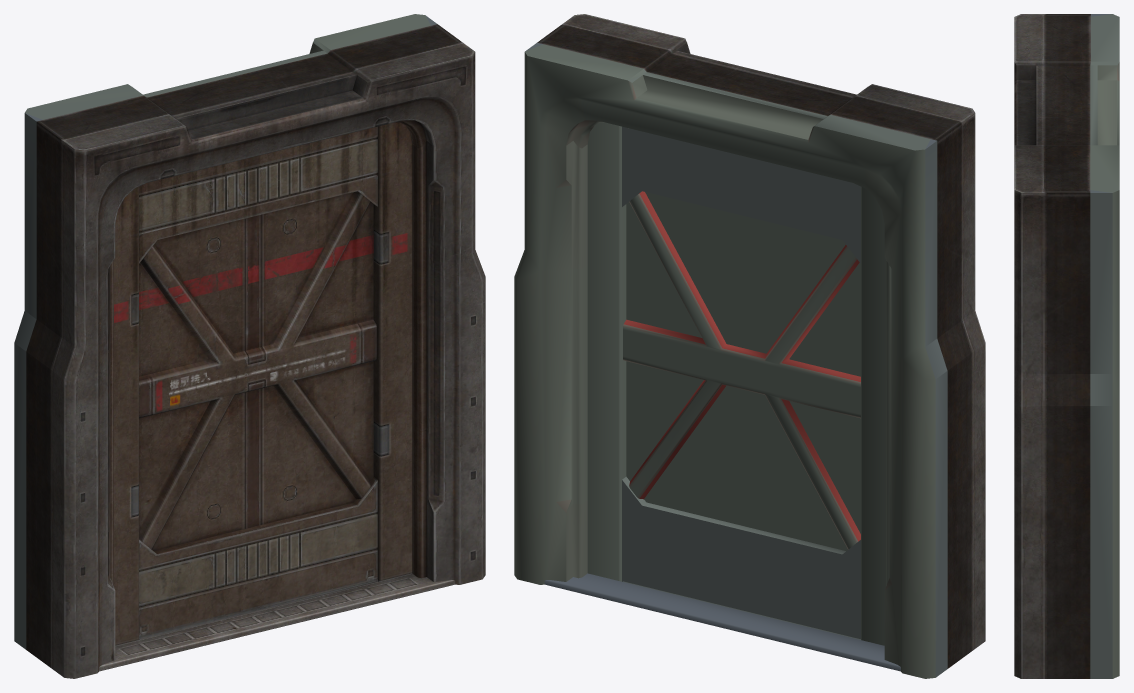
The model's file is slidedoor_medium_vertical_airlock.dae.
3 views of the same model, side by side, from view 1: azimuth 30°, elevation 25°; view 2: azimuth 150°, elevation 25°; view 3: azimuth 270°, elevation 25° (orthographic). The views are drawn at different scales.
Visible parts, largest first — view 1: innerframe, innerdoor, polySurface2, outerframe; view 2: outerdoor, outerframe, innerframe; view 3: innerframe, outerframe.
Part boxes in pixels (bbox=[...]): innerframe: bbox=[26, 24, 485, 678]; innerdoor: bbox=[114, 122, 412, 645]; polySurface2: bbox=[139, 191, 376, 549]; outerframe: bbox=[14, 14, 436, 649]; outerdoor: bbox=[587, 122, 885, 645]; outerframe: bbox=[514, 42, 947, 678]; innerframe: bbox=[537, 14, 985, 668]; innerframe: bbox=[1014, 14, 1090, 678]; outerframe: bbox=[1090, 14, 1119, 678].
Size of the model in its own units: 2.63 by 3.14 by 0.6204.
